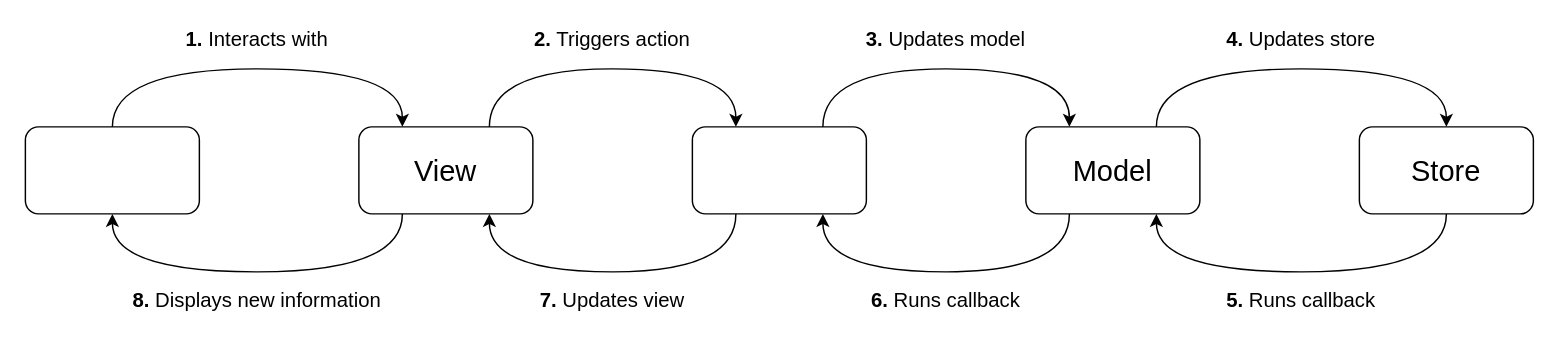
This 1559x339 diagram has some shape labels left out. Here are the shapes that lost their labels. From the top down, the centre of each, then its label:
(111,169): User
(778,169): Controller
